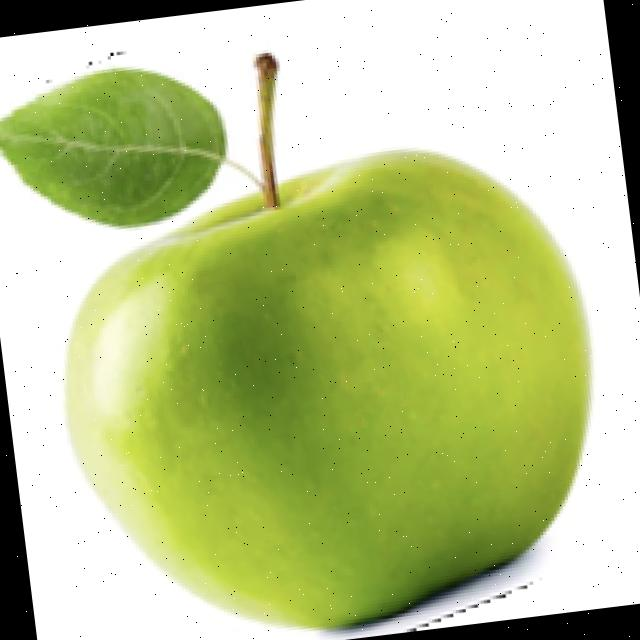apple: (0, 47, 595, 640)
